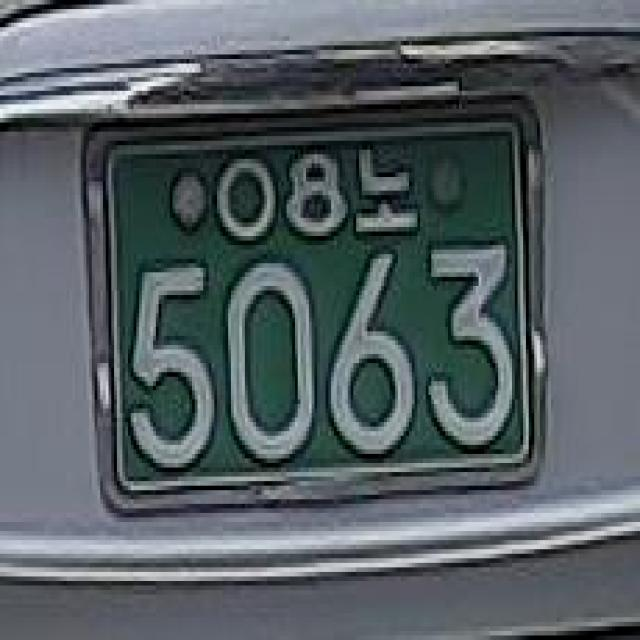illegal_plate: (81, 94, 558, 522)
